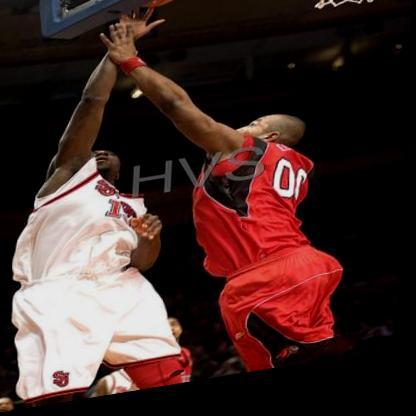basketball: (136, 0, 187, 15)
